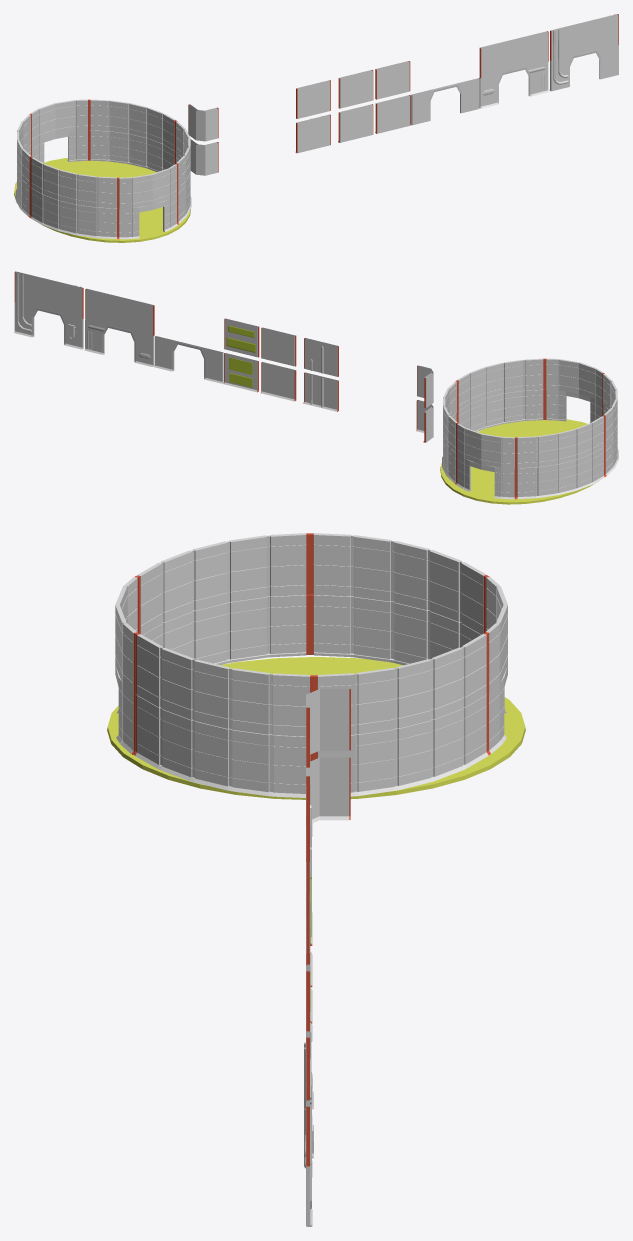
The model's file is Paredes.fbx.
The picture shows the model from 3 angles, top to bottom: view 1: azimuth 30°, elevation 25°; view 2: azimuth 150°, elevation 25°; view 3: azimuth 270°, elevation 25°; orthographic projection. The views are drawn at different scales.
Visible parts, largest first — view 1: Pared.Oficina.004, Pared.Oficina.005, Pared.Oficina.009, PisoOficinaPrueba, Pared.Oficina.008, ParedParaPuertaArriba1/2, ParedParaPuertaArriba3, Pared.Oficina.014, Pared.Oficina.Arriba.Puerta1, ParedParaPuerta1, ParedParaPuerta2, Pared.Oficina.Bajo.002 (+14 smaller); view 2: PisoOficinaPrueba, Pared.Oficina.010, Pared.Oficina.007, Pared.Oficina.011, Pared.Oficina.001, ParedParaPuertaArriba1/2, ParedParaPuertaArriba3, Pared.Oficina.Arriba.Puerta1, Pared.Oficina.014, ParedParaPuerta1, ParedParaPuerta2, ParedOficinaPuertaBajo1 (+14 smaller); view 3: Pared.Oficina.010, Pared.Oficina.007, Pared.Oficina.004, Pared.Oficina.001, Pared.Oficina.009, Pared.Oficina.008, Pared.Oficina.011, Pared.Oficina.005, PisoOficinaPrueba, EsquinaArriba1, EsquinaAbajo1, Pared.Oficina.014 (+3 smaller).
Part boxes in pixels (x1,y1,x2,y2): Pared.Oficina.004: (30, 157, 118, 208); Pared.Oficina.005: (29, 187, 117, 238); Pared.Oficina.009: (89, 99, 175, 150); PisoOficinaPrueba: (14, 158, 190, 242); Pared.Oficina.008: (89, 130, 175, 172); ParedParaPuertaArriba1/2: (479, 31, 548, 78); ParedParaPuertaArriba3: (550, 14, 618, 60); Pared.Oficina.014: (118, 164, 177, 208); Pared.Oficina.Arriba.Puerta1: (30, 99, 89, 143); ParedParaPuerta1: (410, 78, 479, 125); ParedParaPuerta2: (479, 62, 548, 108); Pared.Oficina.Bajo.002: (118, 195, 178, 239); PisoOficinaPrueba: (440, 419, 598, 504); Pared.Oficina.010: (515, 415, 604, 468); Pared.Oficina.007: (456, 358, 545, 410); Pared.Oficina.011: (516, 446, 605, 498); Pared.Oficina.001: (457, 389, 545, 431); ParedParaPuertaArriba1/2: (85, 288, 154, 335); ParedParaPuertaArriba3: (14, 271, 83, 318); Pared.Oficina.Arriba.Puerta1: (457, 423, 516, 468); Pared.Oficina.014: (545, 358, 604, 403); ParedParaPuerta1: (154, 336, 223, 383); ParedParaPuerta2: (84, 319, 154, 366); ParedOficinaPuertaBajo1: (456, 454, 515, 499); Pared.Oficina.010: (310, 533, 487, 634); Pared.Oficina.007: (135, 633, 313, 736); Pared.Oficina.004: (136, 533, 309, 634); Pared.Oficina.001: (133, 694, 313, 797); Pared.Oficina.009: (314, 632, 488, 734); Pared.Oficina.008: (314, 694, 490, 796); Pared.Oficina.011: (310, 594, 480, 665); Pared.Oficina.005: (142, 594, 309, 664); PisoOficinaPrueba: (107, 657, 525, 799); EsquinaArriba1: (306, 688, 350, 767); EsquinaAbajo1: (306, 757, 350, 835); Pared.Oficina.014: (115, 576, 137, 694).
Bounding box in the file's own units: 6167 × 669 × 1900.
